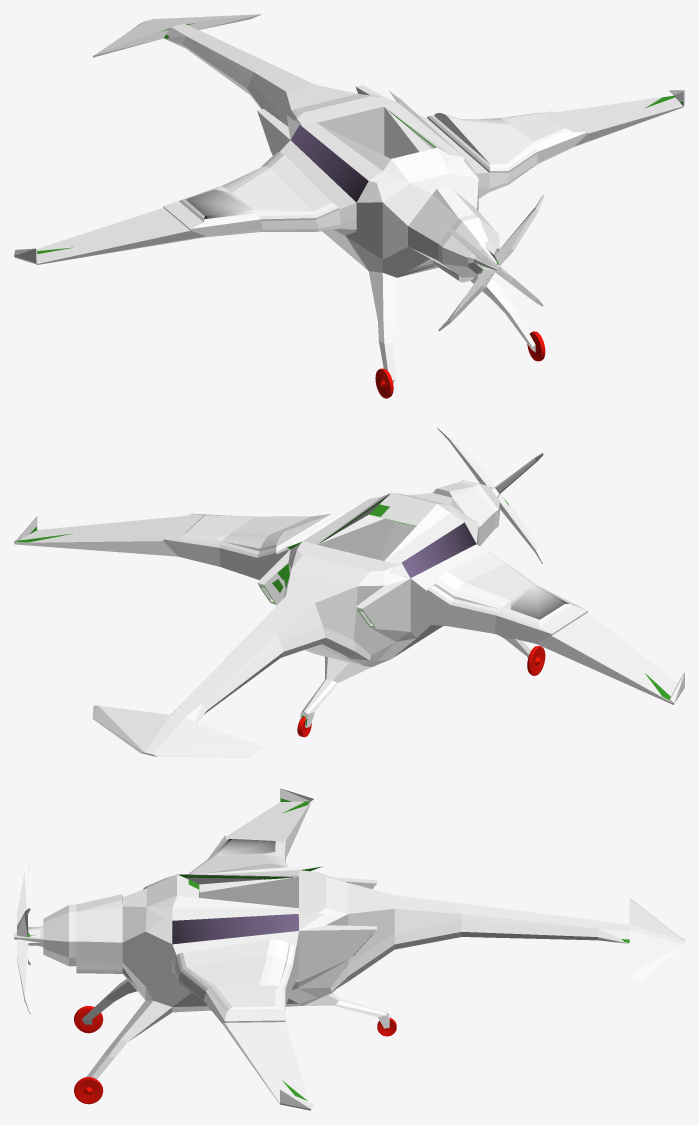
File: ModernPlane2.fbx
The picture shows the model from 3 angles, top to bottom: view 1: azimuth 30°, elevation 25°; view 2: azimuth 150°, elevation 25°; view 3: azimuth 270°, elevation 25°; orthographic projection. The views are drawn at different scales.
Parts seen in each view (by area): view 1: Spider Wings.001, Spider Body.001, Spider Tail.001, Spider Front.001, Spider Wheelarms.001, Spider Prop.001, Spider Wheels.001; view 2: Spider Wings.001, Spider Body.001, Spider Tail.001, Spider Front.001, Spider Prop.001, Spider Wheelarms.001; view 3: Spider Body.001, Spider Wings.001, Spider Tail.001, Spider Front.001, Spider Wheelarms.001, Spider Prop.001, Spider Wheels.001.
Boxes of the visible parts, x1,y1,x2,y2 form: Spider Wings.001: (14, 90, 684, 264); Spider Body.001: (257, 85, 478, 277); Spider Tail.001: (92, 14, 357, 126); Spider Front.001: (408, 185, 499, 282); Spider Wheelarms.001: (368, 271, 535, 382); Spider Prop.001: (437, 195, 544, 331); Spider Wheels.001: (375, 331, 545, 398); Spider Wings.001: (14, 513, 684, 704); Spider Body.001: (257, 492, 478, 666); Spider Tail.001: (92, 570, 357, 757); Spider Front.001: (433, 480, 499, 546); Spider Prop.001: (437, 427, 543, 563); Spider Wheelarms.001: (300, 635, 531, 727); Spider Body.001: (122, 866, 376, 1012); Spider Wings.001: (172, 786, 314, 1110); Spider Tail.001: (348, 883, 684, 981); Spider Front.001: (43, 894, 122, 973); Spider Wheelarms.001: (82, 979, 389, 1079); Spider Prop.001: (14, 858, 43, 1013); Spider Wheels.001: (74, 1006, 103, 1104).
Size of the model in its own units: 550 by 154 by 506.
